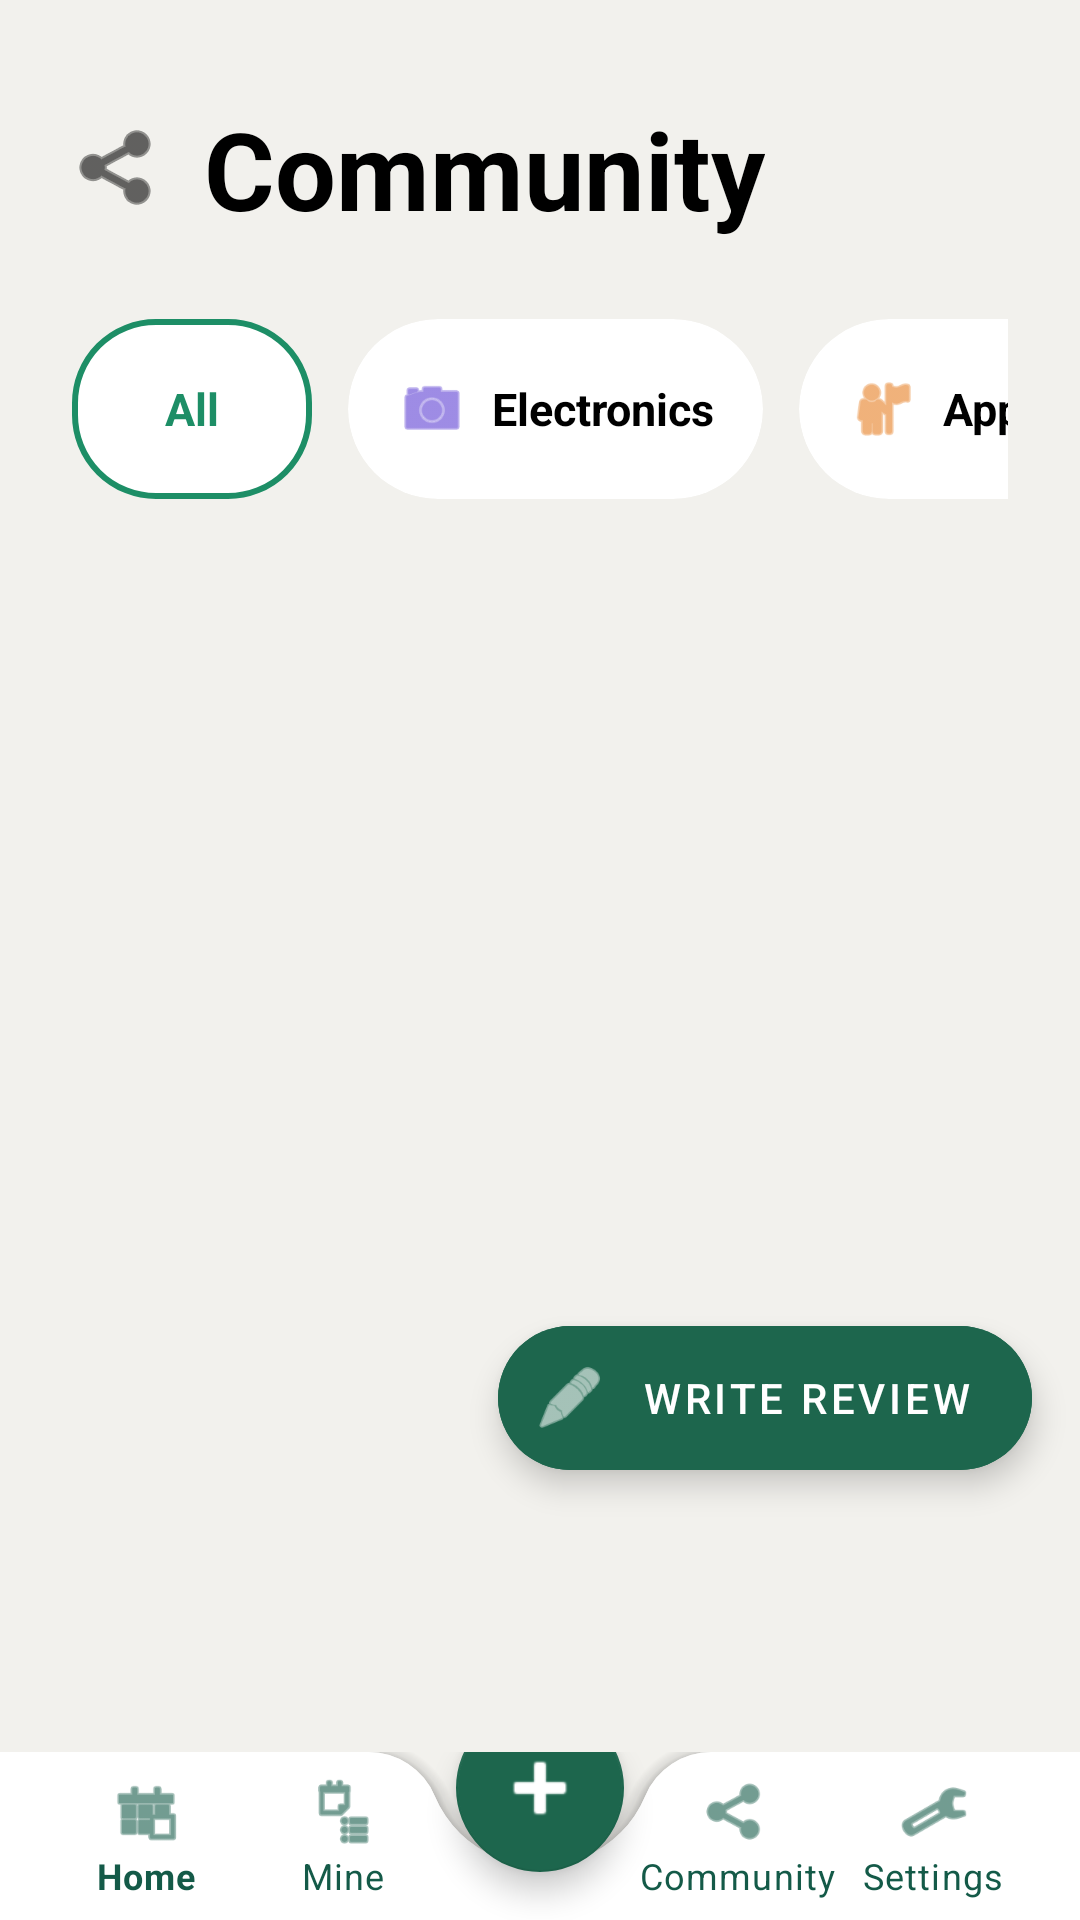

Icon bounding boxes for this 1080px x 1920px phone screenshot, format Rect(x1, y1, x2, y2):
camera: Rect(404, 386, 460, 430)
share: Rect(79, 130, 151, 205)
